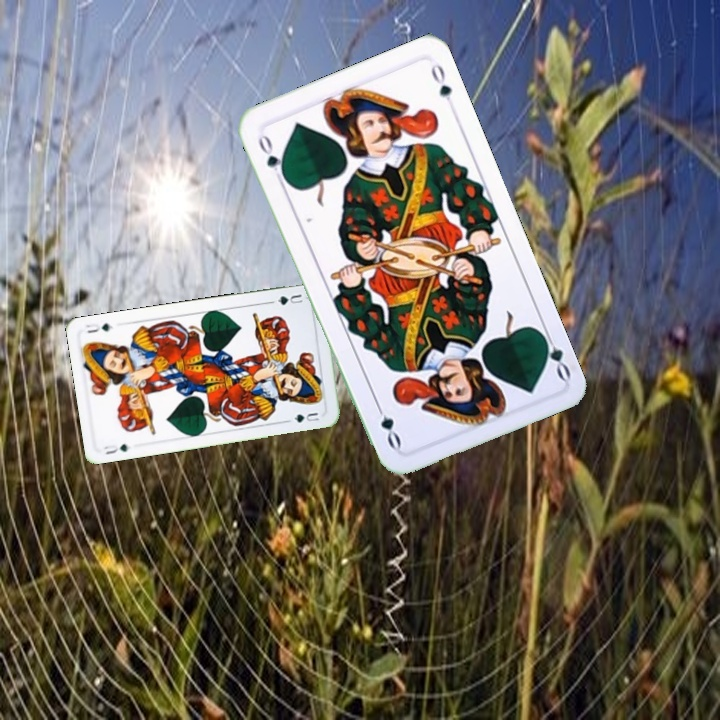GO: (536, 325, 574, 383), (254, 130, 289, 185)
GU: (267, 290, 305, 308), (100, 439, 131, 457)
